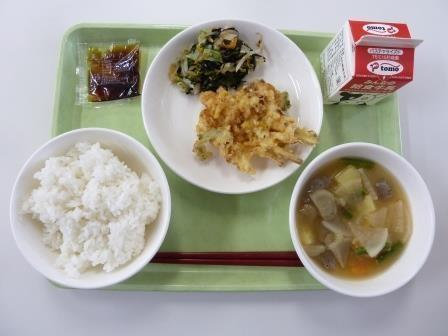Milk: (320, 16, 422, 110)
Rice: (7, 130, 170, 291)
Salad: (167, 25, 270, 88)
Soups: (297, 158, 438, 298)
